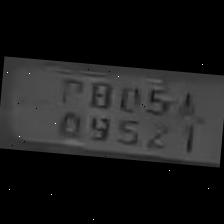0: (114, 80, 144, 111)
1: (174, 116, 202, 153)
2: (140, 116, 173, 150)
5: (142, 80, 175, 116), (111, 113, 144, 146)
9: (82, 111, 111, 142)
B: (82, 77, 114, 111)
P: (52, 73, 85, 107)
